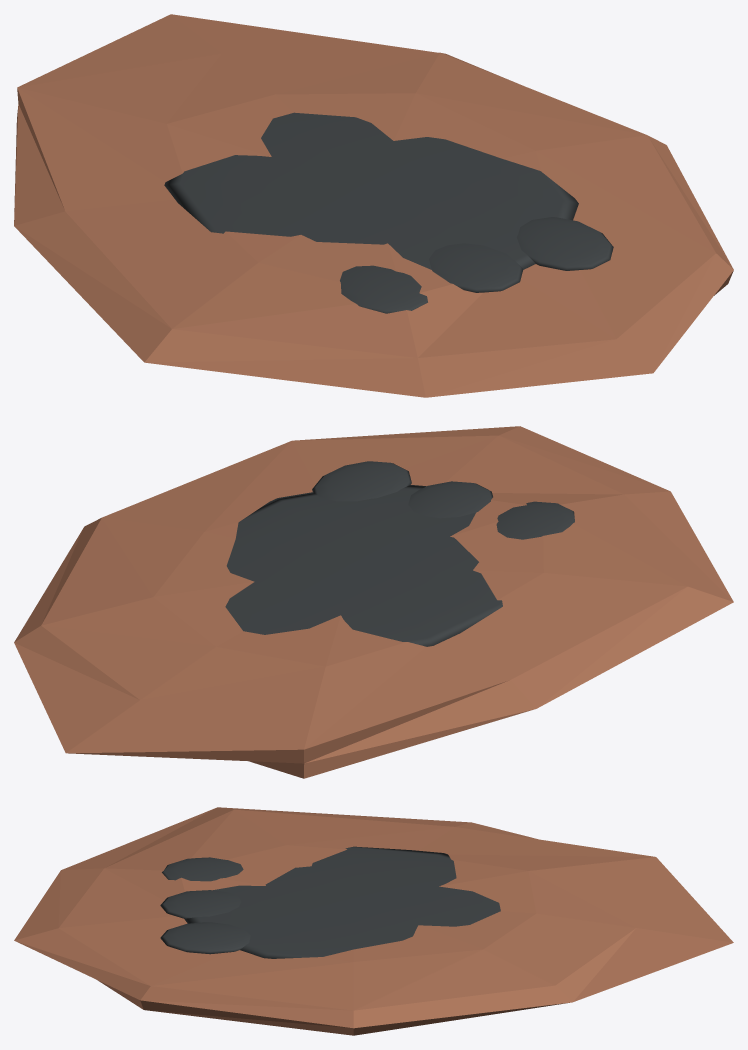
Rendered from primeval-frontier-sauropod-track-306dc969__1774.glb.
3 renders of one model, top to bottom at view 1: azimuth 30°, elevation 25°; view 2: azimuth 150°, elevation 25°; view 3: azimuth 270°, elevation 25°, orthographic. The views are drawn at different scales.
Parts seen in each view (by area): view 1: sauropod-track; view 2: sauropod-track; view 3: sauropod-track.
Boxes of the visible parts, bbox=[...] form: sauropod-track: bbox=[14, 14, 733, 397]; sauropod-track: bbox=[14, 426, 733, 778]; sauropod-track: bbox=[14, 807, 733, 1035].
Bounding box in the file's own units: 1.57 × 0.1451 × 2.16.
